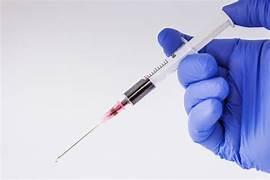Glove: (178, 39, 269, 172)
Syringe: (56, 14, 232, 160)
